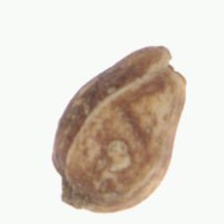L1: (154, 45, 186, 85), (58, 174, 87, 210)
L2: (51, 45, 188, 214)
